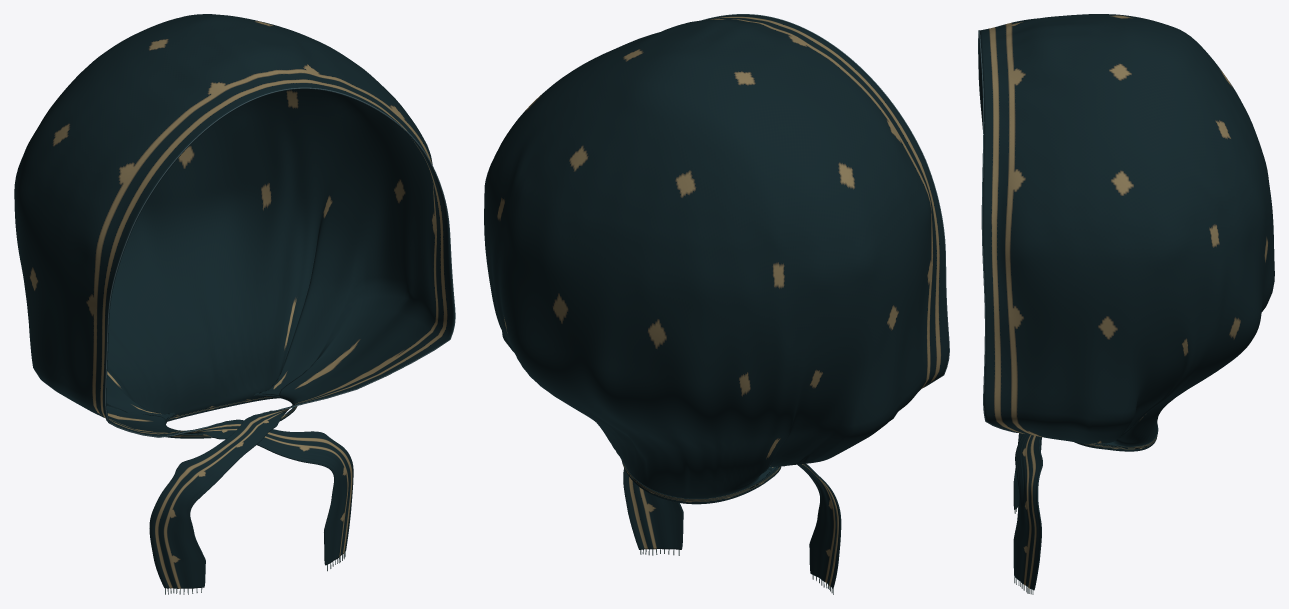
Rendered from Masculine-sidepart-tshirt-pashmina249-headgear.glb.
3 views of the same model, side by side, from view 1: azimuth 30°, elevation 25°; view 2: azimuth 150°, elevation 25°; view 3: azimuth 270°, elevation 25° (orthographic). The views are drawn at different scales.
Visible parts, largest first — view 1: 226 headgear / Headwear / continuous woven pashmina239, 226 headgear / Headwear / face edge239; view 2: 226 headgear / Headwear / continuous woven pashmina239, 226 headgear / Headwear / face edge239; view 3: 226 headgear / Headwear / continuous woven pashmina239, 226 headgear / Headwear / face edge239.
Part boxes in pixels (x1=…): 226 headgear / Headwear / continuous woven pashmina239: x1=14, y1=14, x2=454, y2=588; 226 headgear / Headwear / face edge239: x1=105, y1=87, x2=455, y2=437; 226 headgear / Headwear / continuous woven pashmina239: x1=484, y1=14, x2=948, y2=588; 226 headgear / Headwear / face edge239: x1=701, y1=14, x2=949, y2=388; 226 headgear / Headwear / continuous woven pashmina239: x1=978, y1=14, x2=1274, y2=590; 226 headgear / Headwear / face edge239: x1=978, y1=30, x2=1019, y2=433.
Bounding box in the file's own units: 1.04 × 1.42 × 0.7321.
3 materials, 1 textured.
